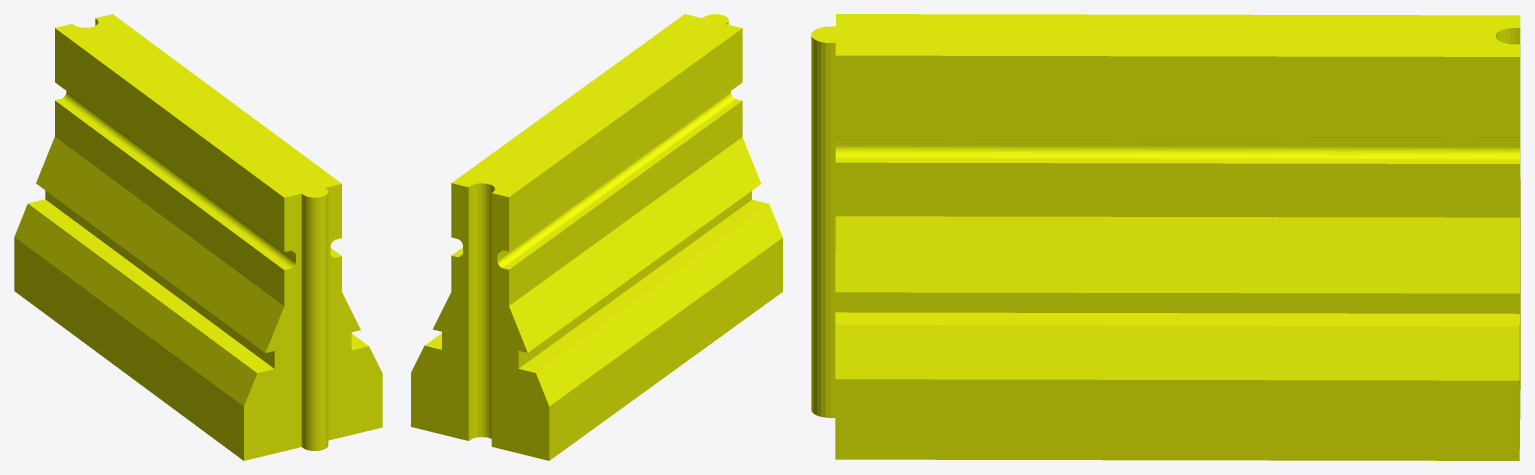
Rendered from jersey_barrier.dae.
3 views of the same model, side by side, from view 1: azimuth 30°, elevation 25°; view 2: azimuth 150°, elevation 25°; view 3: azimuth 270°, elevation 25° (orthographic). The views are drawn at different scales.
Parts seen in each view (by area): view 1: node_001; view 2: node_001; view 3: node_001.
Boxes of the visible parts, x1,y1,x2,y2 form: node_001: (14,14,382,460); node_001: (411,14,782,460); node_001: (811,14,1520,460).
Size of the model in its own units: 0.6082 by 1.8 by 1.05.
